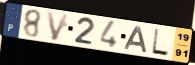2: (74, 16, 96, 48)
4: (99, 18, 119, 50)
8: (21, 9, 43, 38)
A: (123, 26, 149, 54)
L: (150, 27, 170, 58)
V: (46, 11, 71, 42)
